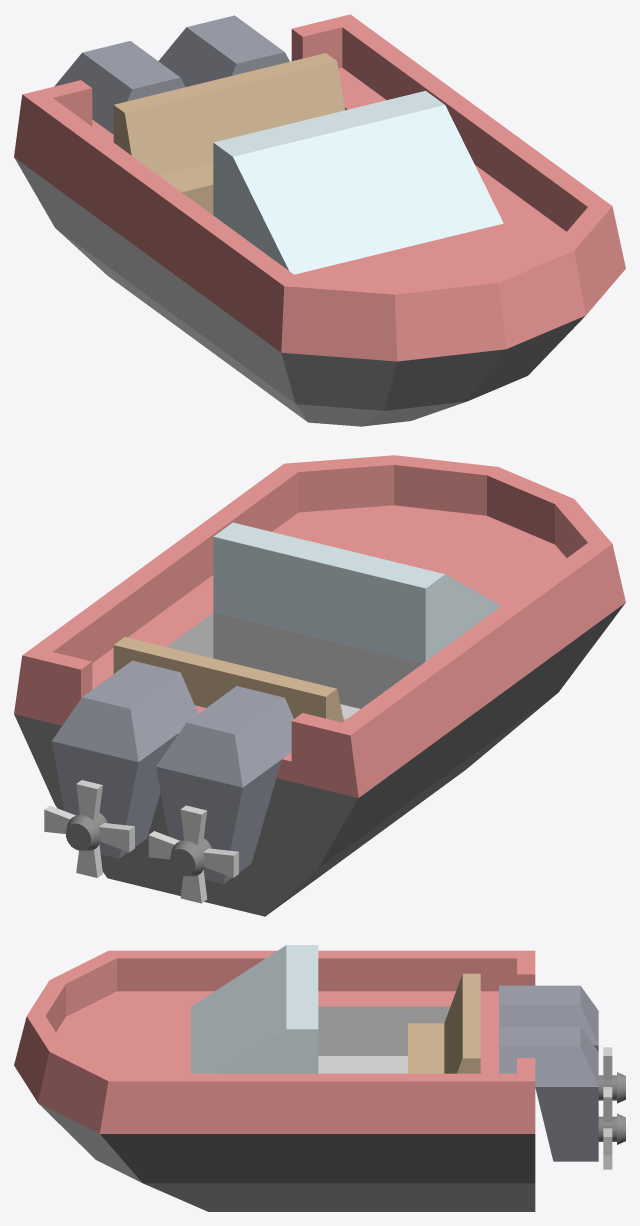
The model's file is watercraftPack_014.glb.
3 views of the same model, one above another, from view 1: azimuth 30°, elevation 25°; view 2: azimuth 150°, elevation 25°; view 3: azimuth 270°, elevation 25° (orthographic). The views are drawn at different scales.
Parts seen in each view (by area): view 1: Mesh5 Group1 Model, Mesh1 Group2 Group1 Model, Mesh2 Group3 Group1 Model; view 2: Mesh5 Group1 Model, Mesh2 Group3 Group1 Model, Mesh1 Group2 Group1 Model, Mesh3 Group4 Group1 Model, Mesh4 Group5 Group1 Model; view 3: Mesh5 Group1 Model, Mesh1 Group2 Group1 Model, Mesh2 Group3 Group1 Model, Mesh3 Group4 Group1 Model.
Part boxes in pixels (bbox=[...]): Mesh5 Group1 Model: bbox=[14, 14, 625, 426]; Mesh1 Group2 Group1 Model: bbox=[158, 15, 289, 86]; Mesh2 Group3 Group1 Model: bbox=[54, 41, 185, 134]; Mesh5 Group1 Model: bbox=[14, 455, 625, 916]; Mesh2 Group3 Group1 Model: bbox=[156, 686, 293, 883]; Mesh1 Group2 Group1 Model: bbox=[51, 660, 198, 858]; Mesh3 Group4 Group1 Model: bbox=[44, 780, 134, 877]; Mesh4 Group5 Group1 Model: bbox=[148, 805, 238, 903]; Mesh5 Group1 Model: bbox=[14, 945, 535, 1211]; Mesh1 Group2 Group1 Model: bbox=[499, 1027, 625, 1161]; Mesh2 Group3 Group1 Model: bbox=[499, 985, 625, 1103]; Mesh3 Group4 Group1 Model: bbox=[603, 1089, 612, 1169].
Bounding box in the file's own units: 1.78 × 1.17 × 3.37.
